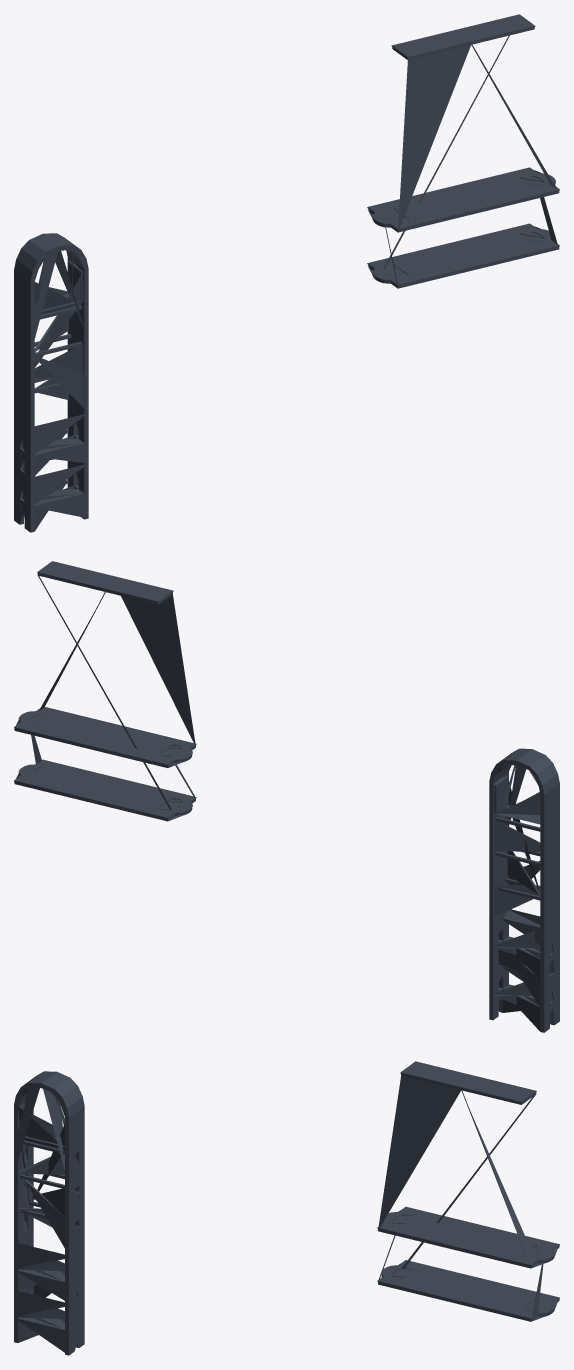
Rendered from street_island2_00.glb.
3 views of the same model, one above another, from view 1: azimuth 30°, elevation 25°; view 2: azimuth 150°, elevation 25°; view 3: azimuth 330°, elevation 25° (orthographic). The views are drawn at different scales.
Parts seen in each view (by area): view 1: seg_848, seg_971; view 2: seg_848, seg_971; view 3: seg_848, seg_971.
Boxes of the visible parts, x1,y1,x2,y2 form: seg_848: (367, 14, 559, 288); seg_971: (14, 233, 88, 532); seg_848: (14, 561, 196, 821); seg_971: (489, 748, 559, 1032); seg_848: (377, 1061, 559, 1321); seg_971: (14, 1071, 84, 1355).
Bounding box in the file's own units: 136 × 87.78 × 16.35.
